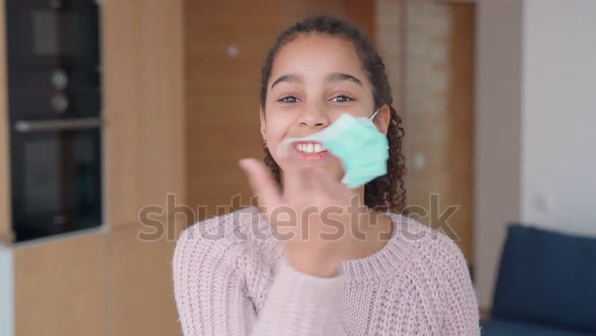Mask: (255, 109, 391, 191)
